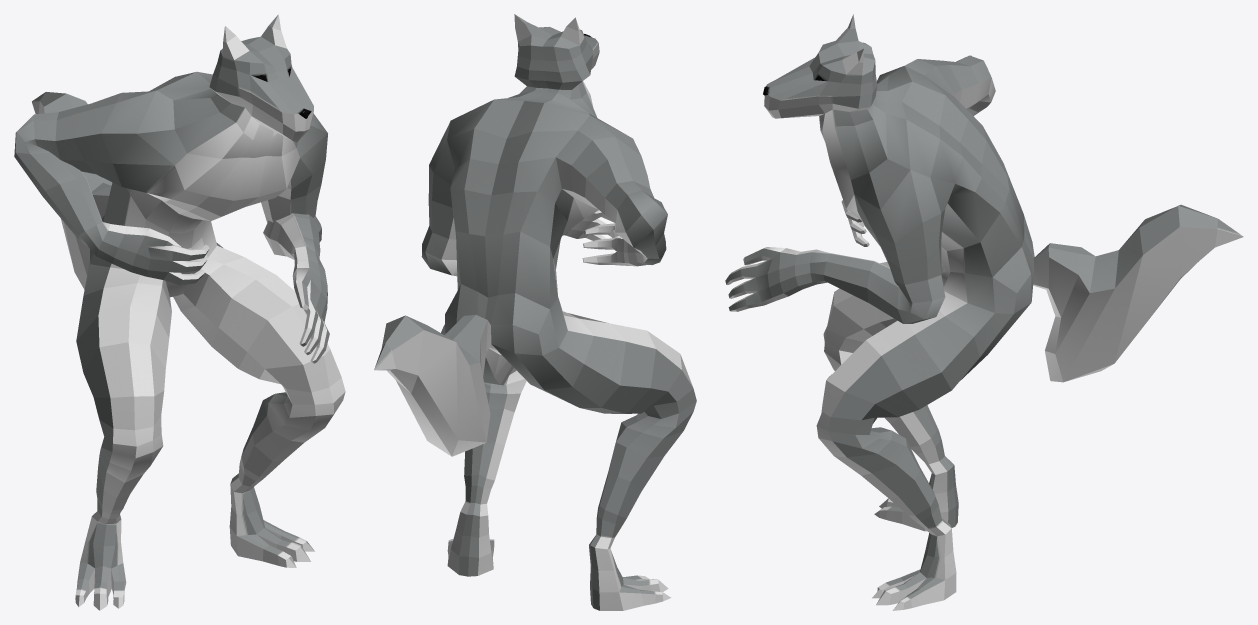
File: WolfIdle_(28).obj
The picture shows the model from 3 angles, left to right: view 1: azimuth 30°, elevation 25°; view 2: azimuth 150°, elevation 25°; view 3: azimuth 270°, elevation 25°; orthographic projection. The views are drawn at different scales.
Parts seen in each view (by area): view 1: Box001; view 2: Box001; view 3: Box001.
Part boxes in pixels (left/top/right/bottom): Box001: left=14, top=14, right=345, bottom=610; Box001: left=374, top=14, right=696, bottom=610; Box001: left=725, top=14, right=1243, bottom=610.
Bounding box in the file's own units: 68.62 × 134 × 115.
